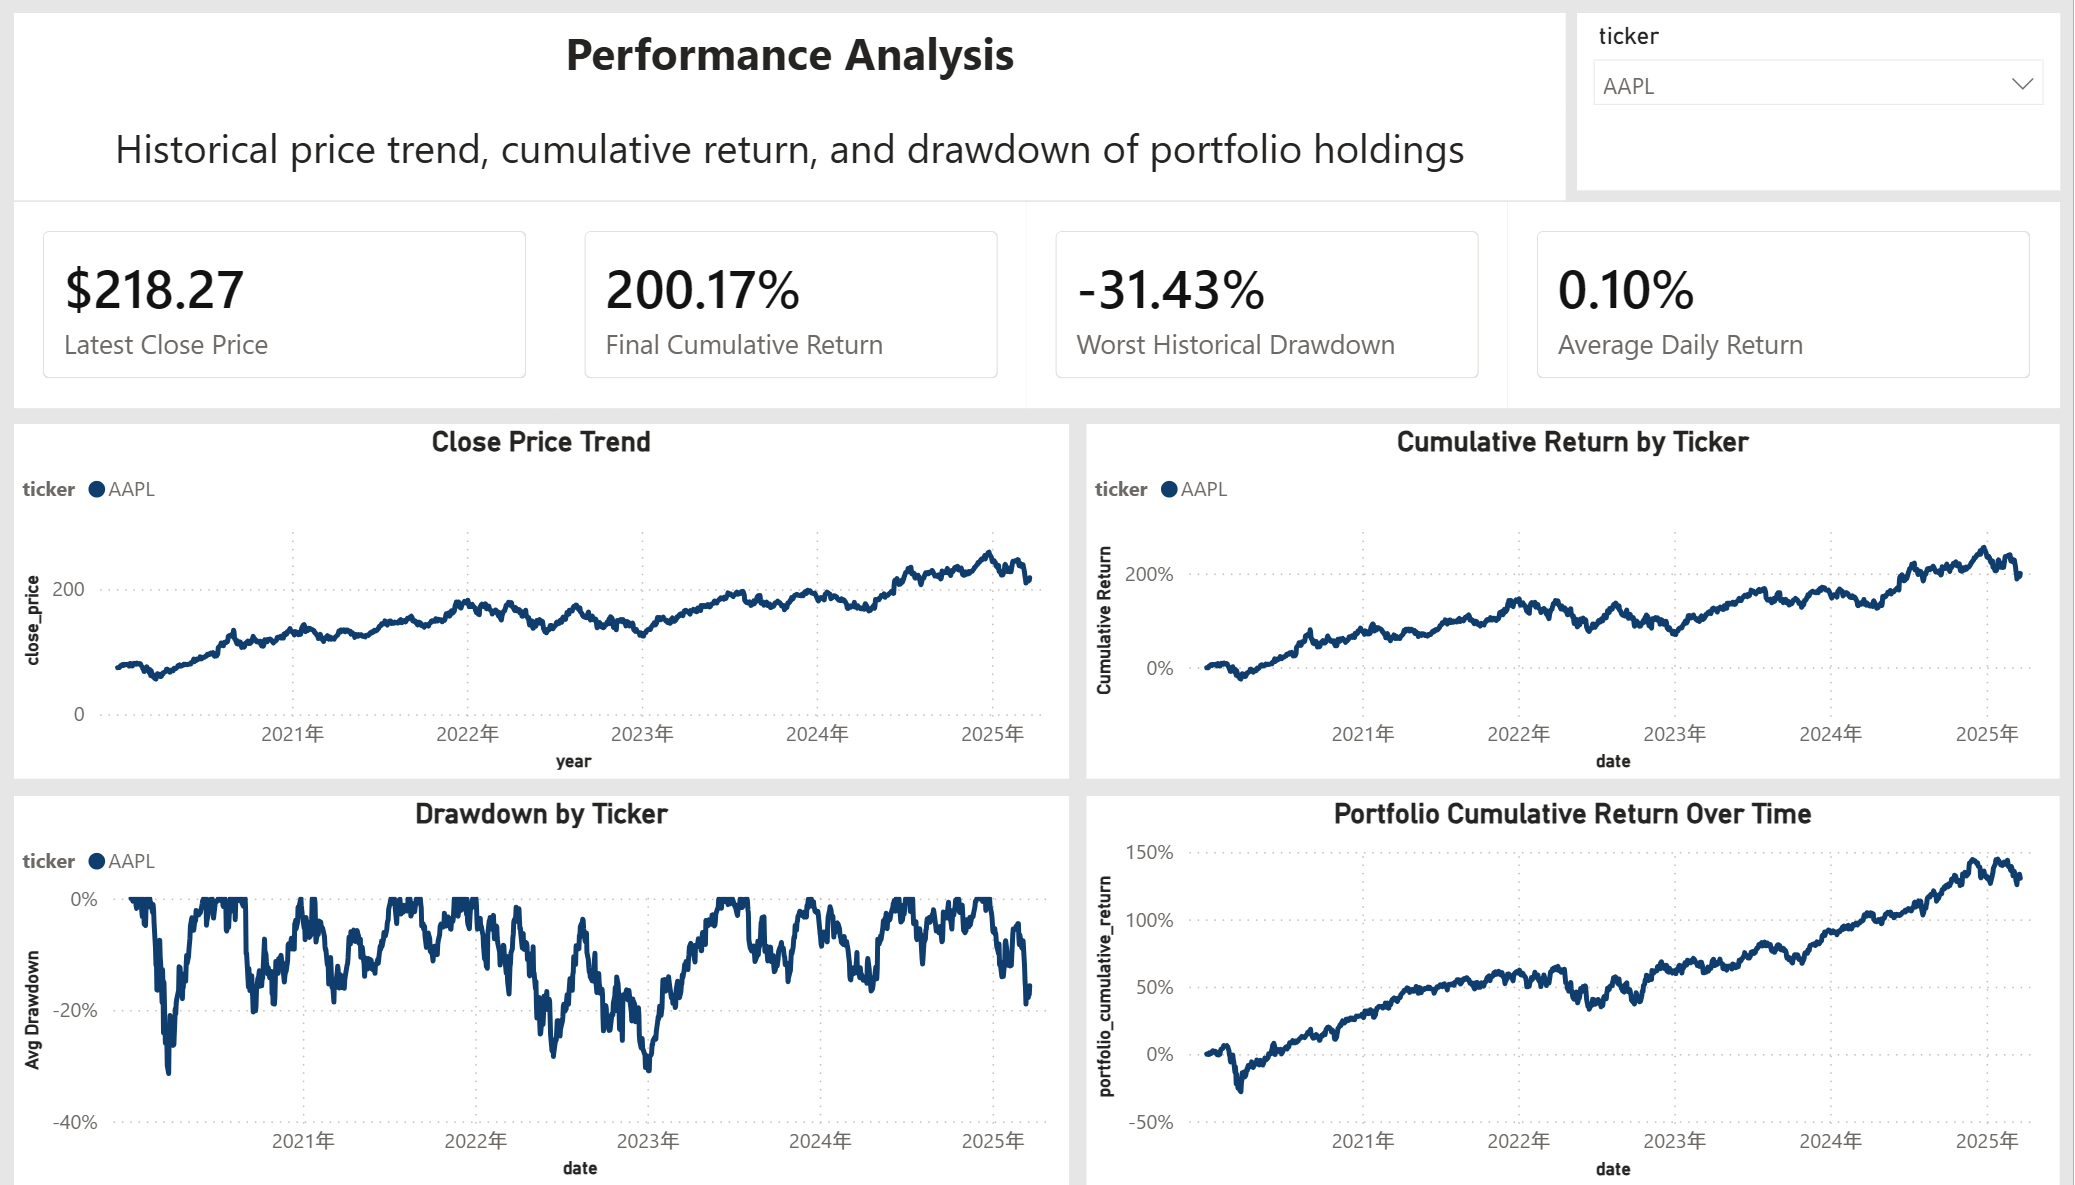

The dashboard page shown, as its layout file describes it:
{"tool":"powerbi","page":{"name":"Performance Analysis","canvas":[1280,720],"ordinal":3},"visuals":[{"type":"textbox","box":[41.2,14.1,933.4,59.3],"z":0},{"type":"textbox","box":[41.2,73.4,933.4,54.3],"z":1000},{"type":"slicer","fields":{"Values":["stock_prices_cleaned.ticker"]},"box":[981.7,14.4,290.5,106.5],"z":2000},{"type":"cardVisual","fields":{"Data":["stock_prices_cleaned.Average Daily Return"]},"box":[940.4,127.7,331.9,123.7],"z":3000},{"type":"cardVisual","fields":{"Data":["stock_prices_cleaned.Worst Historical Drawdown"]},"box":[650.7,127.7,289.7,123.7],"z":4000},{"type":"cardVisual","fields":{"Data":["stock_prices_cleaned.Final Cumulative Return"]},"box":[367.1,127.7,283.6,123.7],"z":5000},{"type":"cardVisual","fields":{"Data":["stock_prices_cleaned.Latest Close Price"]},"box":[41.2,127.7,325.9,123.7],"z":6000},{"type":"lineChart","title":"Close Price Trend","fields":{"Y":["Avg(stock_prices_cleaned.close_price)"],"Series":["stock_prices_cleaned.ticker"],"Category":["stock_prices_cleaned.date"]},"box":[41.2,261.5,634.6,213.2],"z":6001},{"type":"lineChart","title":"Cumulative Return by Ticker","fields":{"Series":["stock_prices_cleaned.ticker"],"Y":["stock_prices_cleaned.Avg Cumulative Return"],"Category":["stock_prices_cleaned.date"]},"box":[686.9,261.5,585.4,213.2],"z":6002},{"type":"lineChart","title":"Drawdown by Ticker","fields":{"Category":["stock_prices_cleaned.date"],"Y":["stock_prices_cleaned.Avg Drawdown"],"Series":["stock_prices_cleaned.ticker"]},"box":[41.2,485.8,634.6,234.3],"z":6003},{"type":"lineChart","title":"Portfolio Cumulative Return Over Time","fields":{"Y":["Sum(portfolio_performance.portfolio_cumulative_return)"],"Category":["portfolio_performance.date"]},"box":[686.9,485.8,585.4,234.3],"z":6004}]}

Visuals, with their boxes in screenshot pixels (x1, y1, x2, y2), scaled from the page's 1280x720 canvas onto the 2075x1185 screenshot:
textbox: (left=67, top=23, right=1580, bottom=121)
textbox: (left=67, top=121, right=1580, bottom=210)
slicer - stock_prices_cleaned.ticker: (left=1591, top=24, right=2062, bottom=199)
cardVisual - stock_prices_cleaned.Average Daily Return: (left=1524, top=210, right=2063, bottom=414)
cardVisual - stock_prices_cleaned.Worst Historical Drawdown: (left=1055, top=210, right=1524, bottom=414)
cardVisual - stock_prices_cleaned.Final Cumulative Return: (left=595, top=210, right=1055, bottom=414)
cardVisual - stock_prices_cleaned.Latest Close Price: (left=67, top=210, right=595, bottom=414)
"Close Price Trend" lineChart: (left=67, top=430, right=1096, bottom=781)
"Cumulative Return by Ticker" lineChart: (left=1114, top=430, right=2063, bottom=781)
"Drawdown by Ticker" lineChart: (left=67, top=800, right=1096, bottom=1184)
"Portfolio Cumulative Return Over Time" lineChart: (left=1114, top=800, right=2063, bottom=1184)
